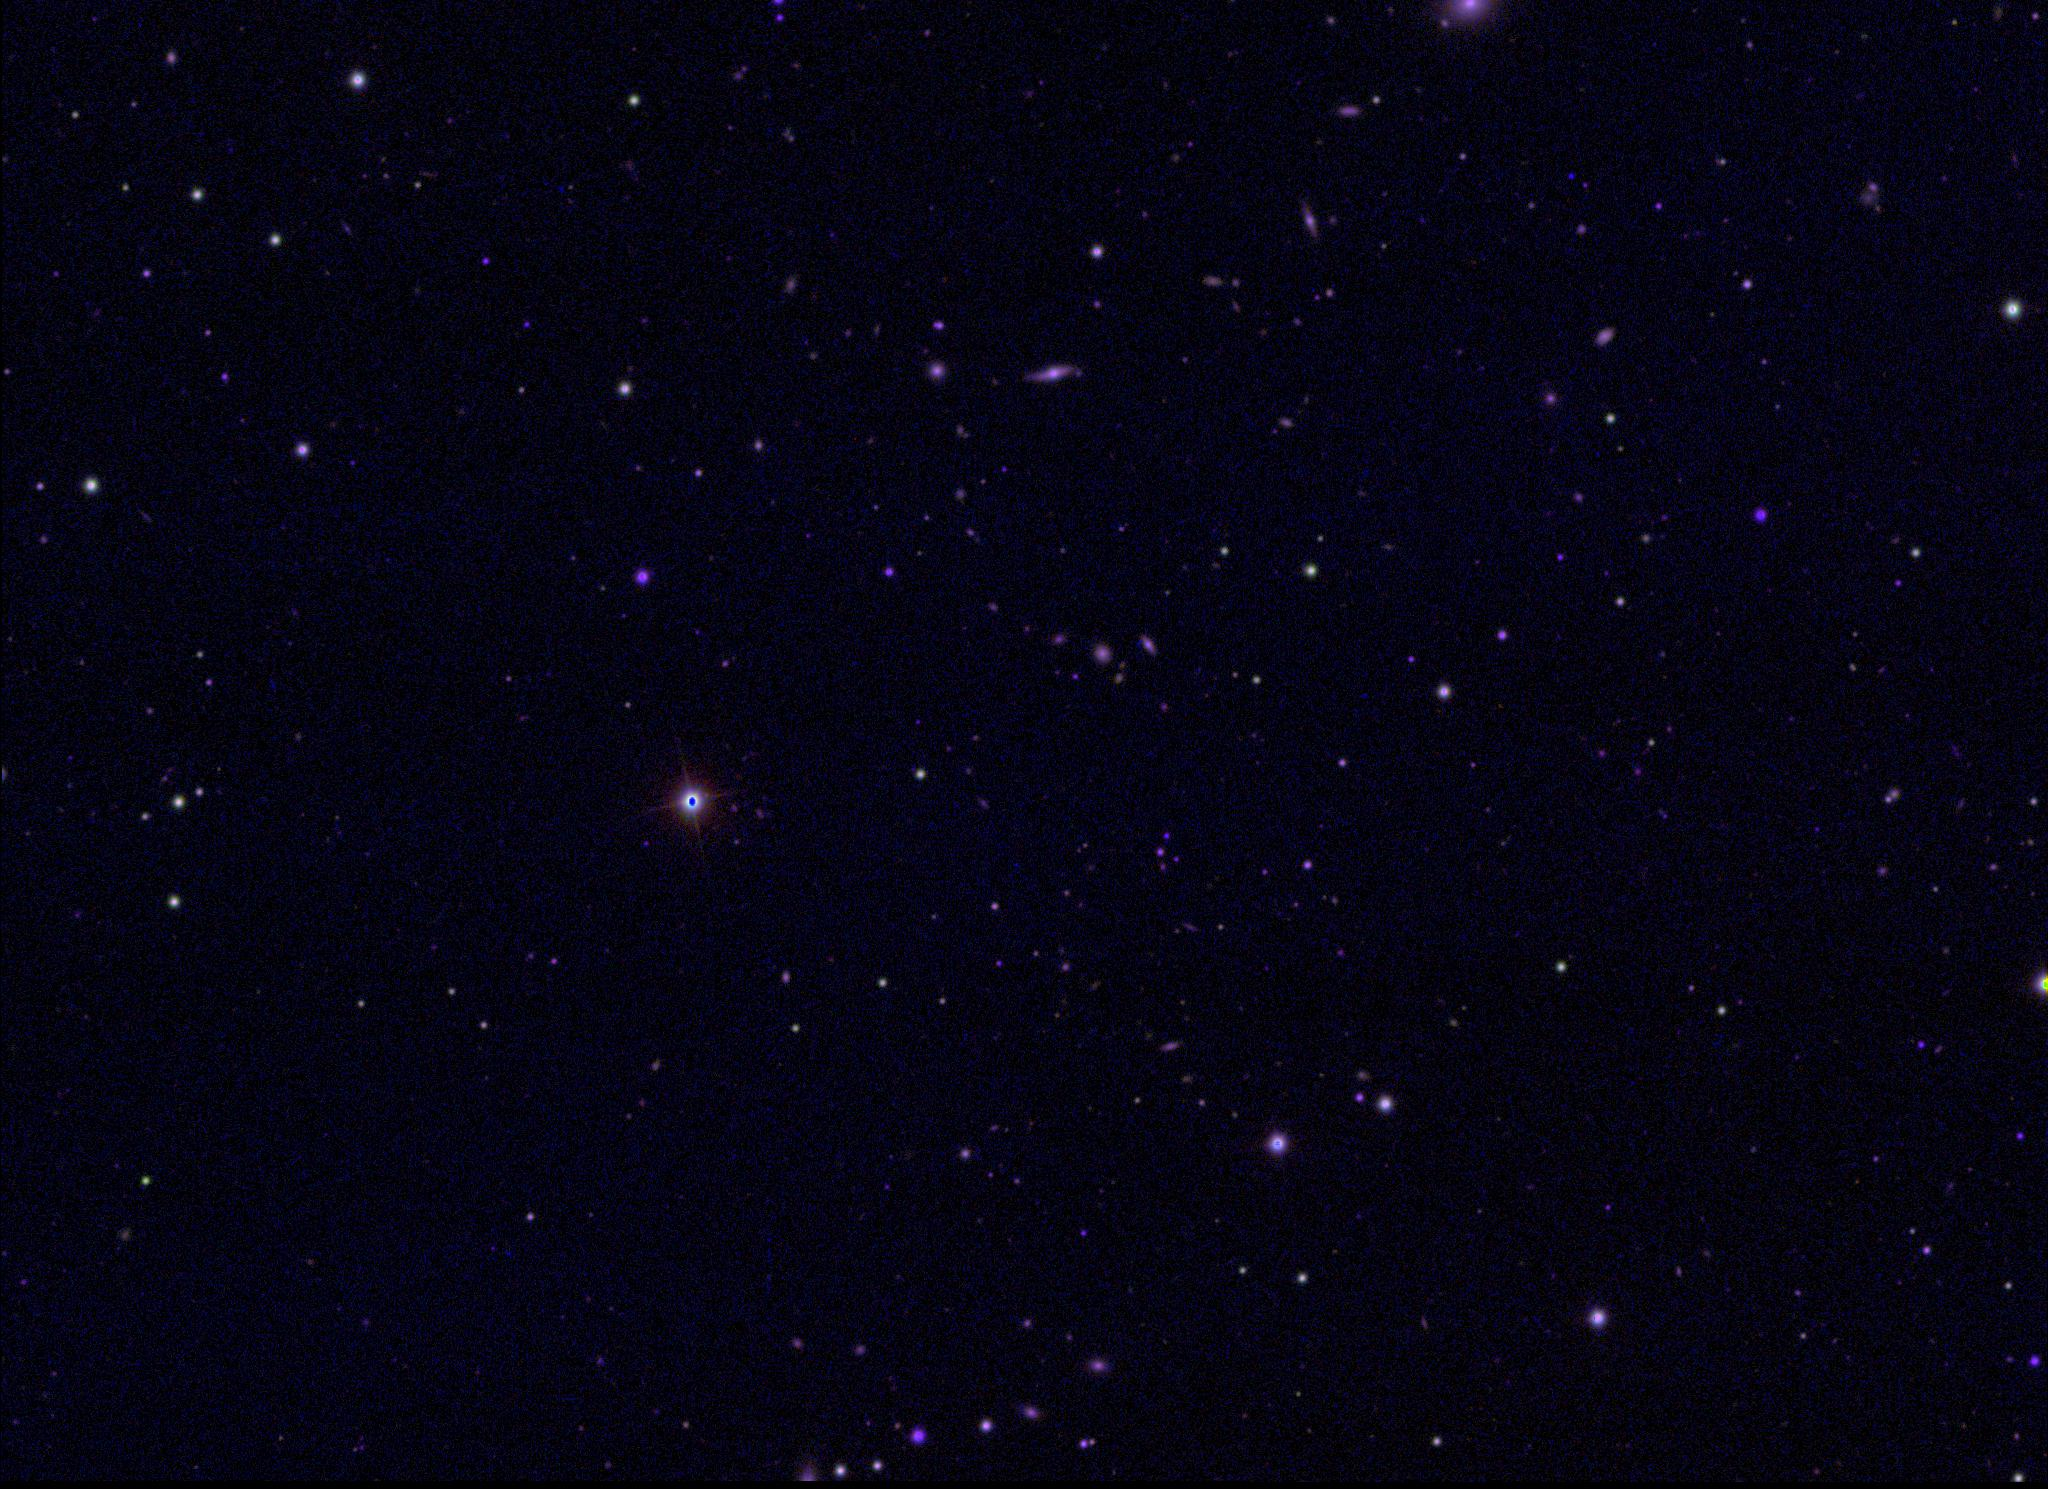L: (1565, 169, 1577, 183)
